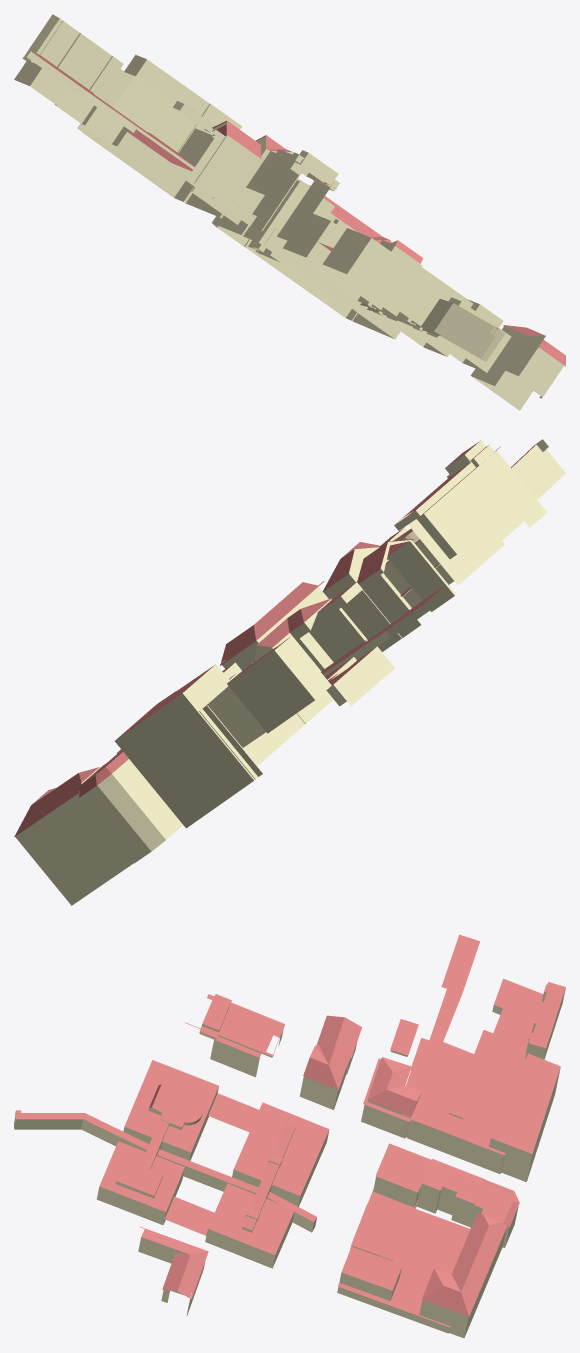
File: tile_086.glb
3 renders of one model, top to bottom at view 1: azimuth 30°, elevation 25°; view 2: azimuth 150°, elevation 25°; view 3: azimuth 270°, elevation 25°, orthographic. The views are drawn at different scales.
Visible parts, largest first — view 1: Batched_Building_ID_5B905AB1-34C9-46F6-B29F-AE087E8665B4, Batched_Building_ID_9114CD3B-189E-4CA2-B204-DE823545DB50; view 2: Batched_Building_ID_5B905AB1-34C9-46F6-B29F-AE087E8665B4, Batched_Building_ID_9114CD3B-189E-4CA2-B204-DE823545DB50; view 3: Batched_Building_ID_9114CD3B-189E-4CA2-B204-DE823545DB50, Batched_Building_ID_5B905AB1-34C9-46F6-B29F-AE087E8665B4.
Boxes of the visible parts, x1,y1,x2,y2 form: Batched_Building_ID_5B905AB1-34C9-46F6-B29F-AE087E8665B4: [14, 14, 564, 410]; Batched_Building_ID_9114CD3B-189E-4CA2-B204-DE823545DB50: [31, 51, 565, 366]; Batched_Building_ID_5B905AB1-34C9-46F6-B29F-AE087E8665B4: [15, 439, 565, 905]; Batched_Building_ID_9114CD3B-189E-4CA2-B204-DE823545DB50: [14, 440, 541, 836]; Batched_Building_ID_9114CD3B-189E-4CA2-B204-DE823545DB50: [16, 934, 565, 1327]; Batched_Building_ID_5B905AB1-34C9-46F6-B29F-AE087E8665B4: [14, 989, 565, 1338].
Bounding box in the file's own units: 134 × 123 × 220.
